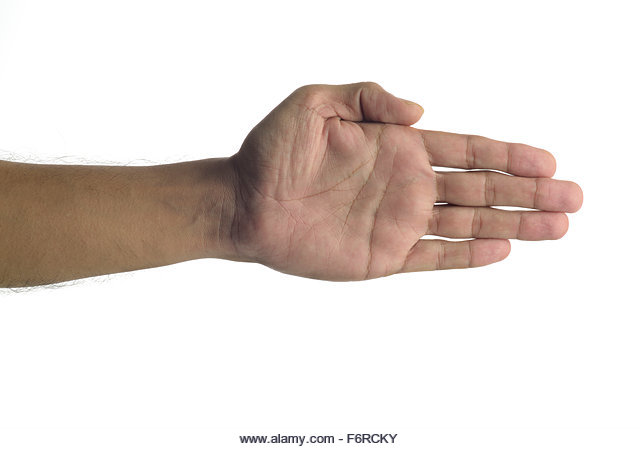non-diseased: (259, 87, 585, 287)
